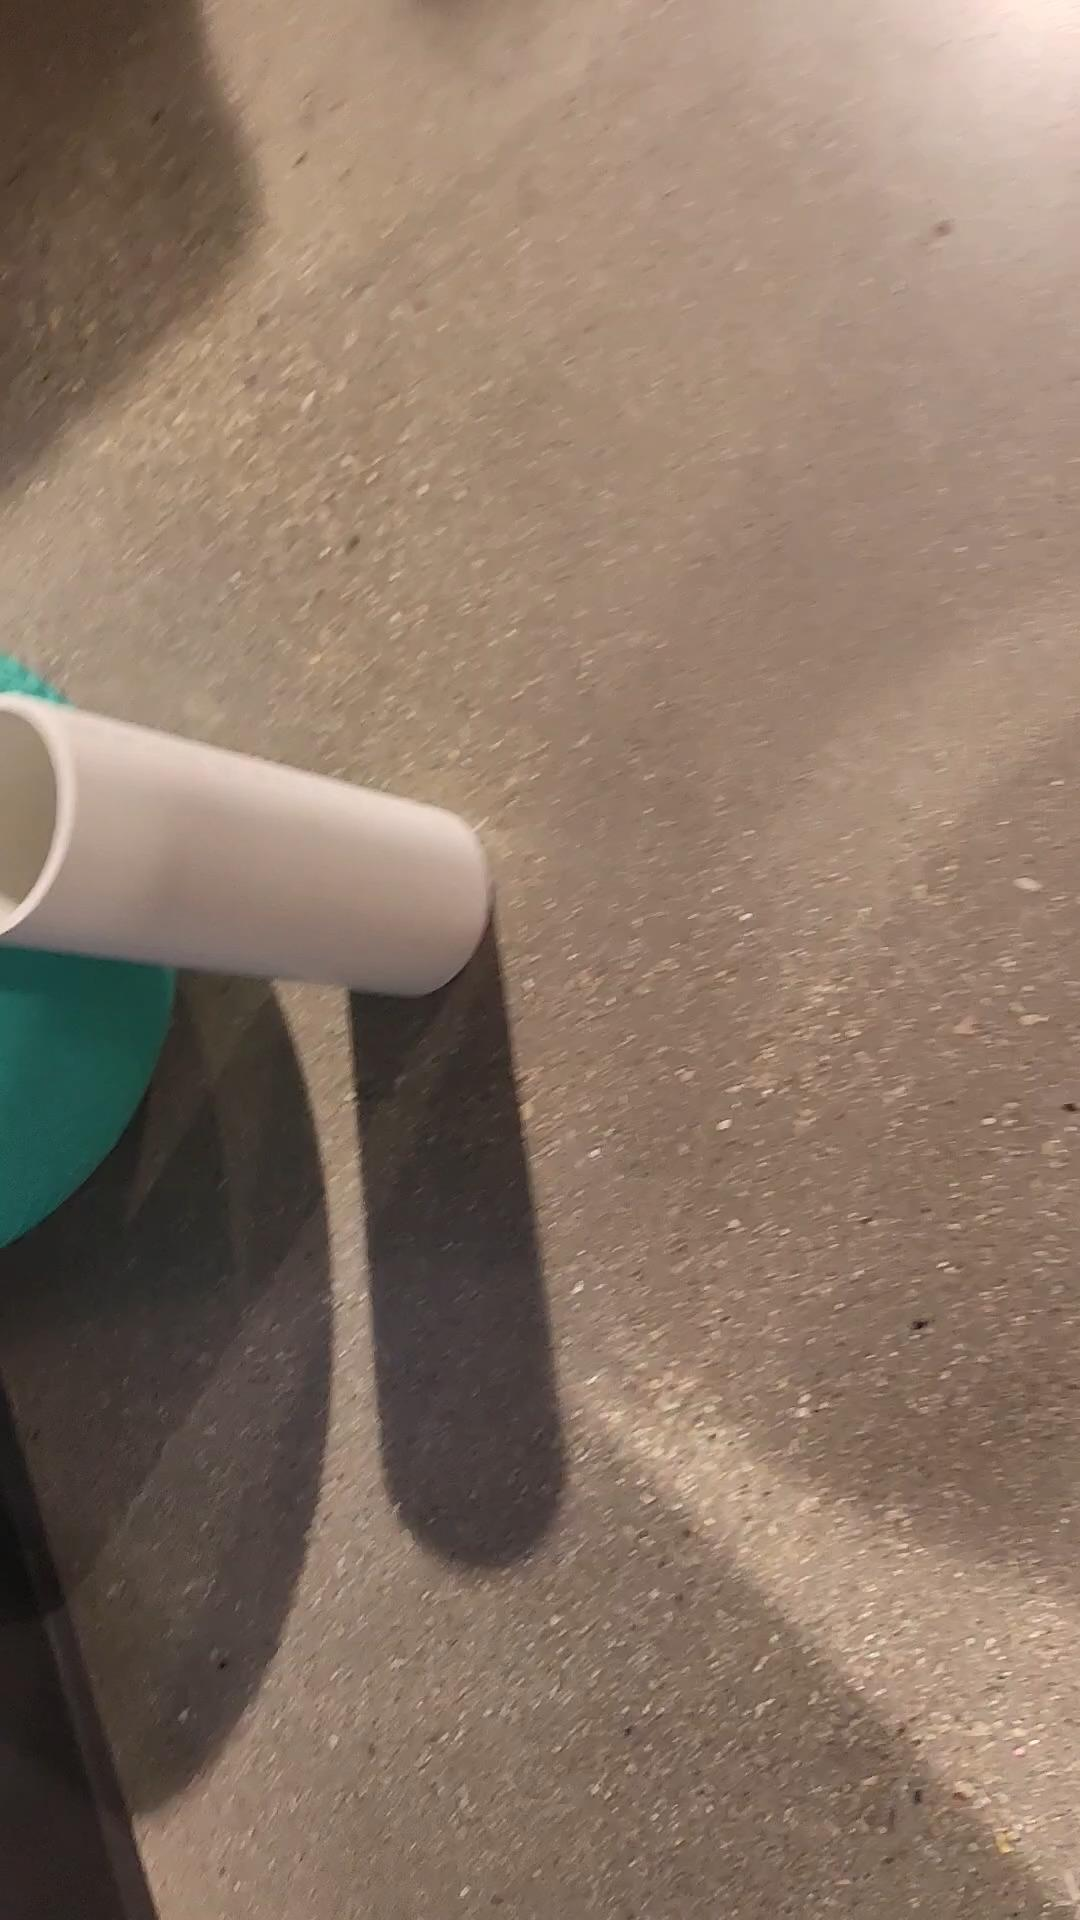algae: (0, 642, 175, 1255)
coral: (0, 690, 485, 1002)
